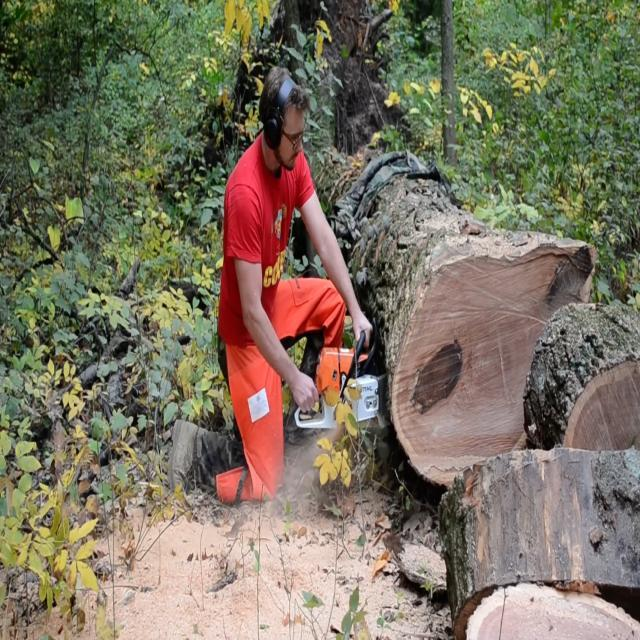Chainsaw: (272, 308, 406, 445)
